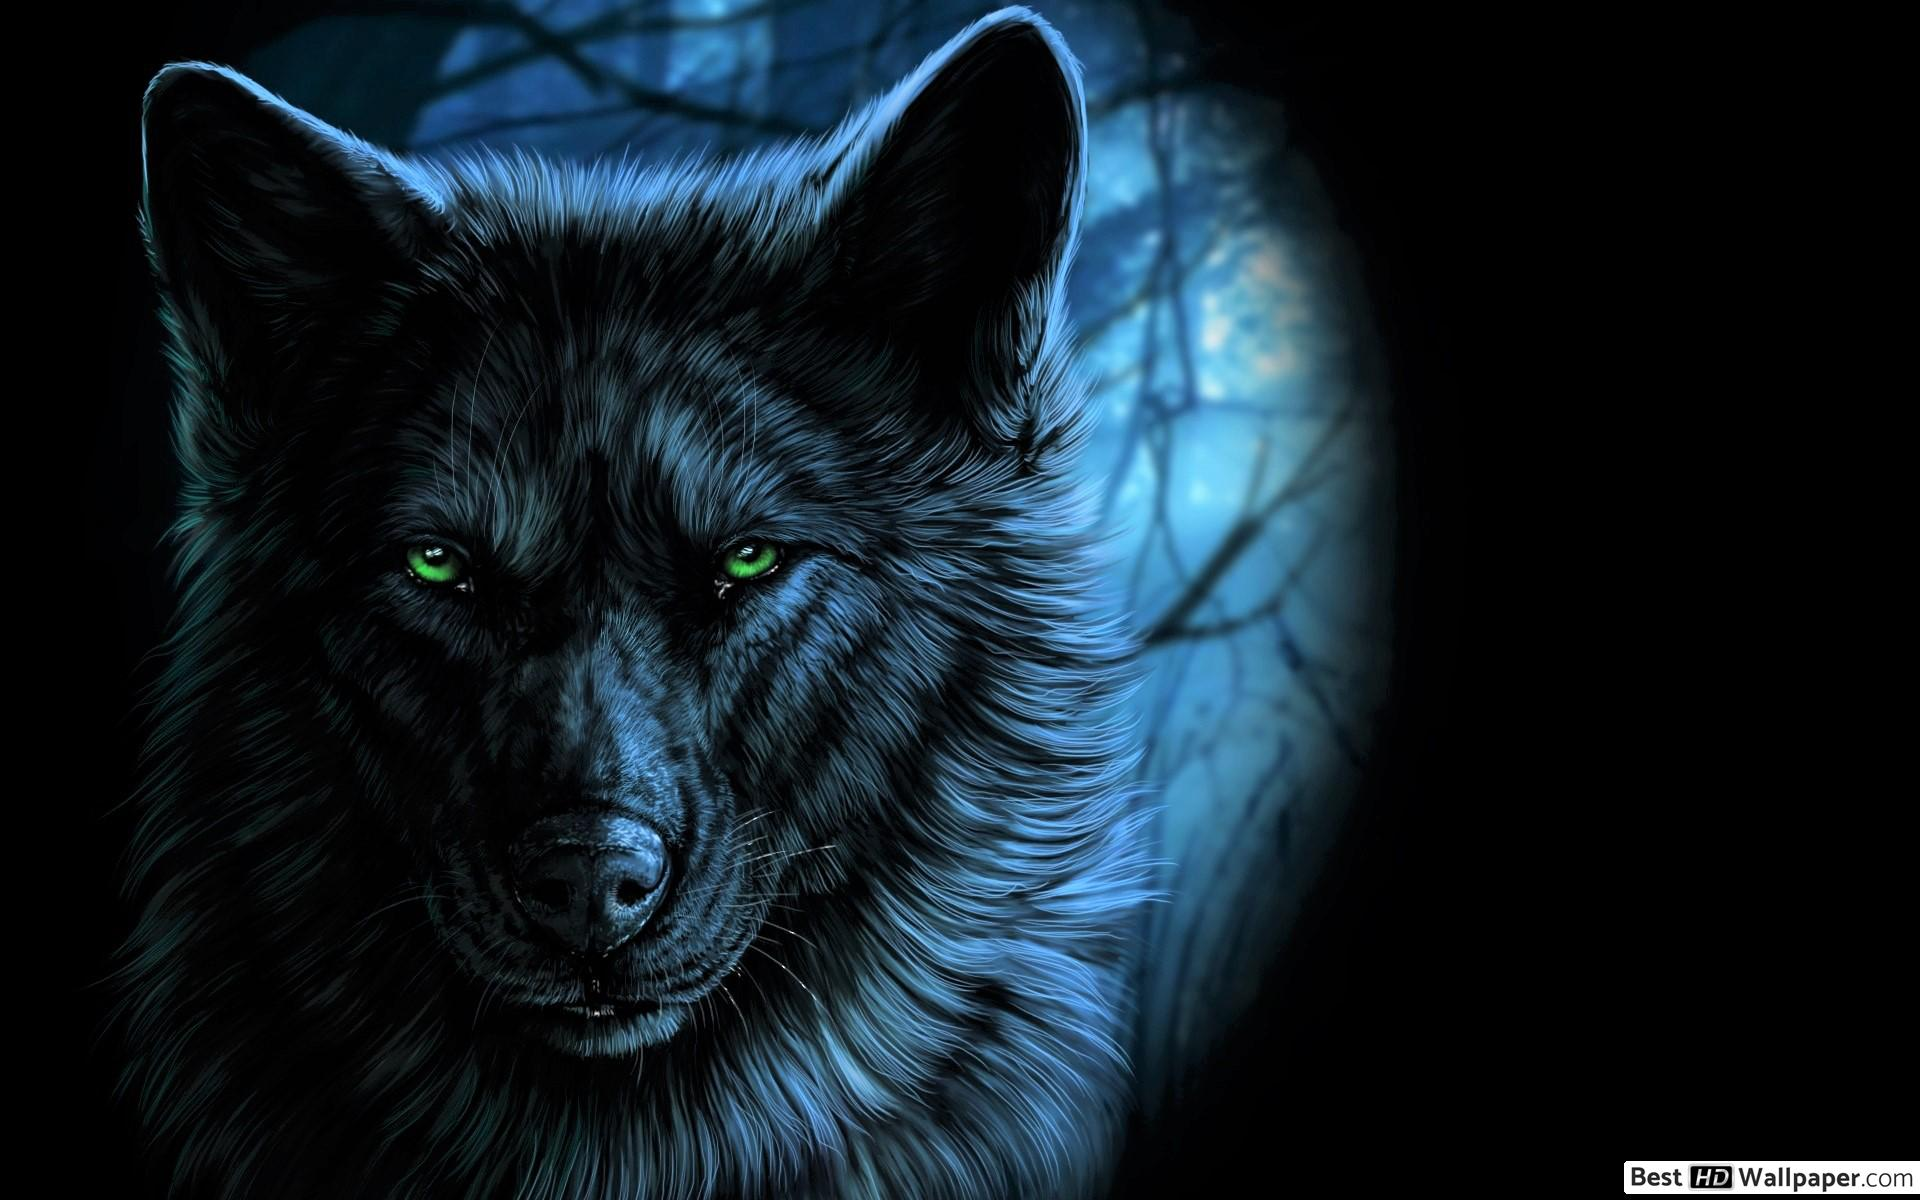Lobo: (131, 12, 1208, 1085)
